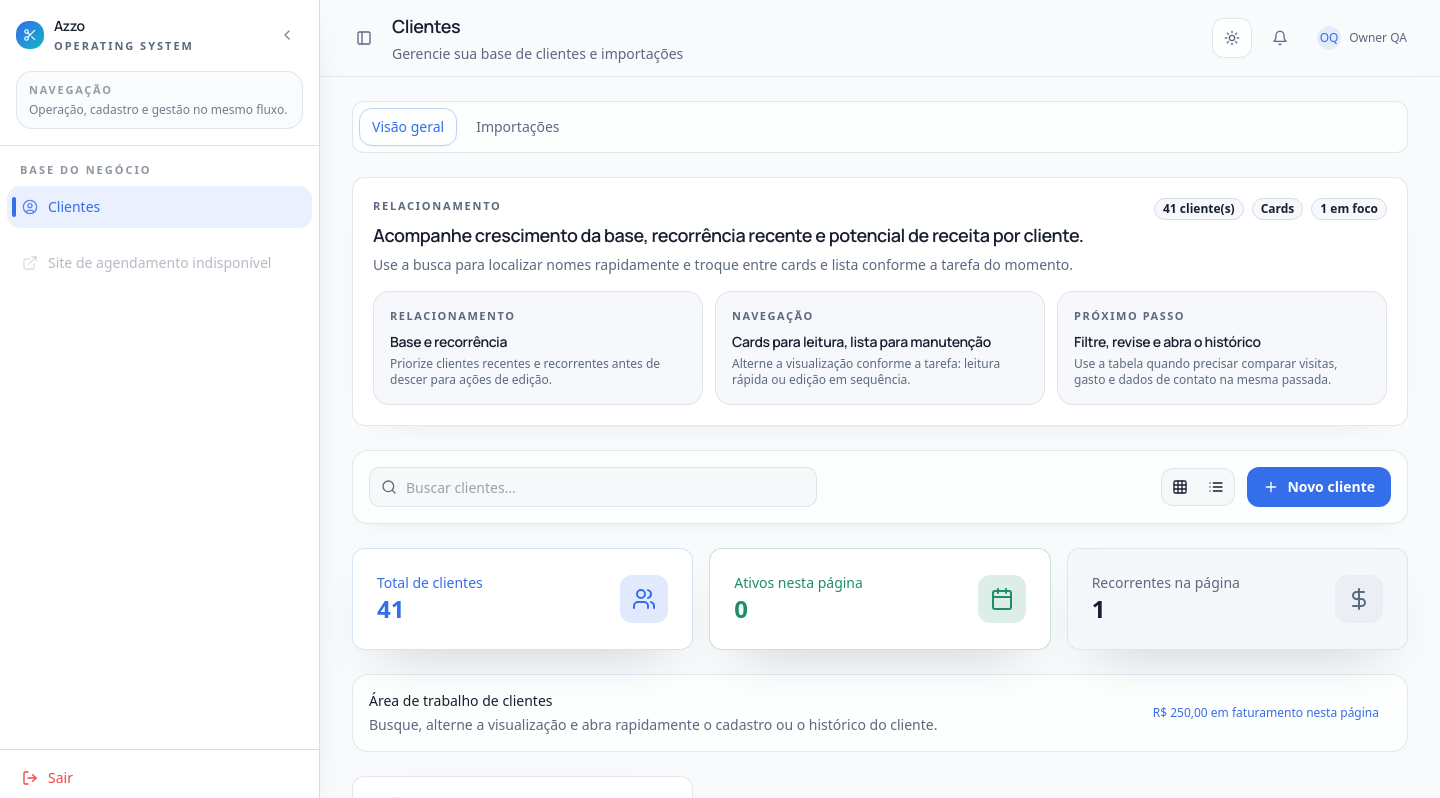
Test case: Clients › should open the client create dialog from the shared crud toolbar
Click the button "Novo cliente" at (1319, 487), box [1247,467,1391,507]
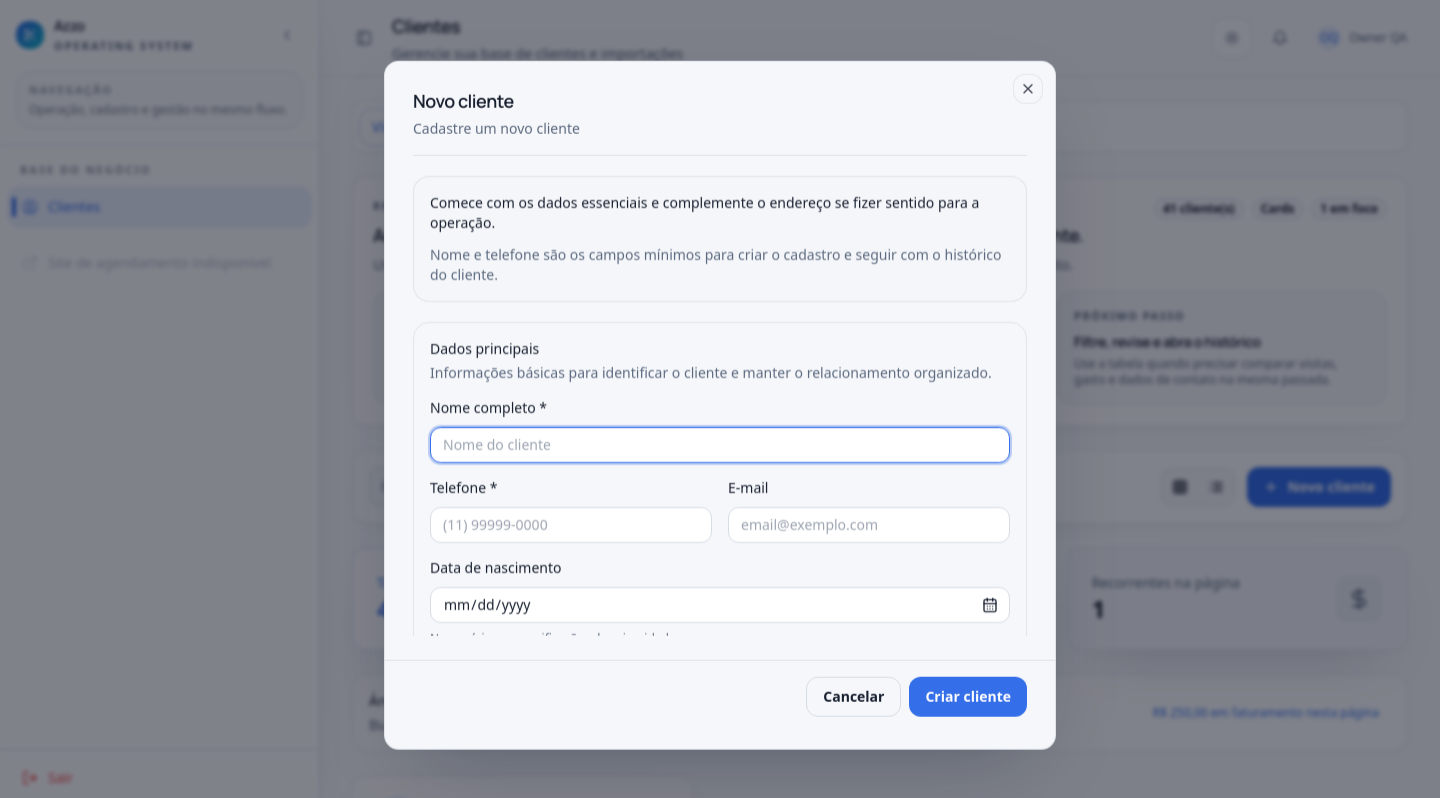
Expected: the dialog "Novo cliente Cadastre um novo cliente" is shown, [384,61,1056,749]
Expected: the button "Criar cliente" is shown, [909,676,1027,716]
